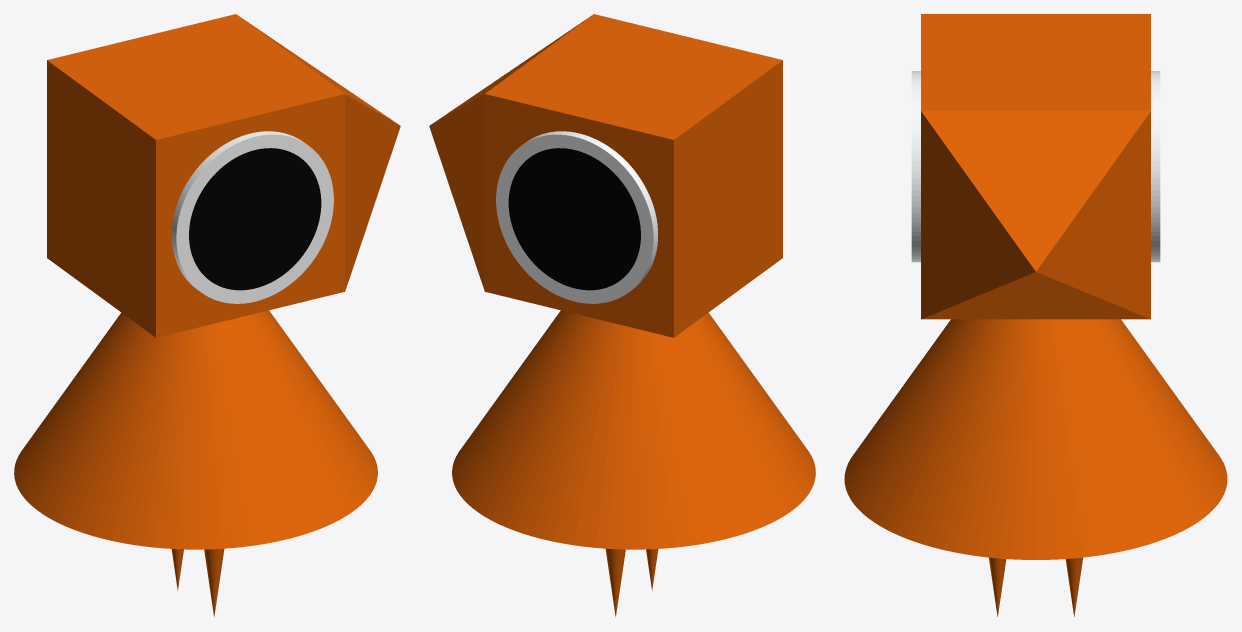
File: bird.fbx
The picture shows the model from 3 angles, left to right: view 1: azimuth 30°, elevation 25°; view 2: azimuth 150°, elevation 25°; view 3: azimuth 270°, elevation 25°; orthographic projection. The views are drawn at different scales.
Visible parts, largest first — view 1: Head, Coat, Eye, Leg_Right; view 2: Head, Coat, Eye, Leg_Right.001; view 3: Head, Coat, Eye, Leg_Right, Leg_Right.001.
Part boxes in pixels (left/top/right/bottom): Head: left=47, top=14, right=400, bottom=337; Coat: left=14, top=310, right=377, bottom=549; Eye: left=172, top=131, right=333, bottom=303; Leg_Right: left=204, top=548, right=224, bottom=617; Head: left=429, top=14, right=782, bottom=337; Coat: left=452, top=310, right=815, bottom=549; Eye: left=496, top=131, right=657, bottom=303; Leg_Right.001: left=605, top=548, right=625, bottom=617; Head: left=921, top=14, right=1150, bottom=319; Coat: left=844, top=319, right=1227, bottom=559; Eye: left=911, top=71, right=1160, bottom=262; Leg_Right: left=989, top=557, right=1006, bottom=616; Leg_Right.001: left=1065, top=557, right=1082, bottom=616.
Size of the model in its own units: 230 by 320 by 200.
